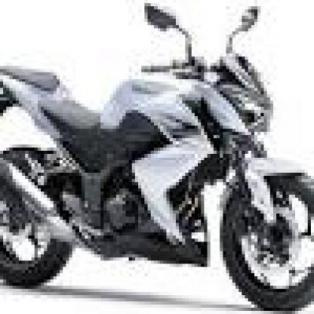Motocicleta: (0, 0, 311, 311)
